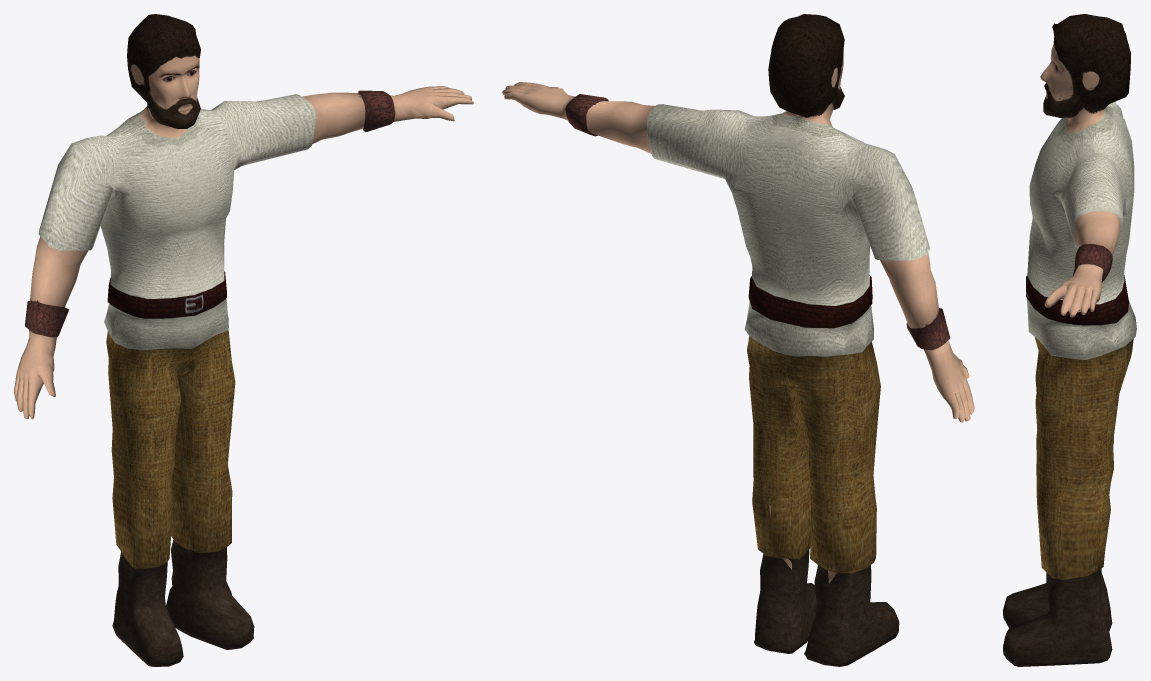
Rendered from persona.obj.
The picture shows the model from 3 angles, left to right: view 1: azimuth 30°, elevation 25°; view 2: azimuth 150°, elevation 25°; view 3: azimuth 270°, elevation 25°; orthographic projection. The views are drawn at different scales.
Parts seen in each view (by area): view 1: lumberJack:lumberJack; view 2: lumberJack:lumberJack; view 3: lumberJack:lumberJack.
Boxes of the visible parts, x1,y1,x2,y2 form: lumberJack:lumberJack: [14, 14, 473, 666]; lumberJack:lumberJack: [502, 14, 974, 666]; lumberJack:lumberJack: [1003, 14, 1136, 666].
Size of the model in its own units: 1.39 by 1.81 by 0.3512.
1 material, 1 textured.
